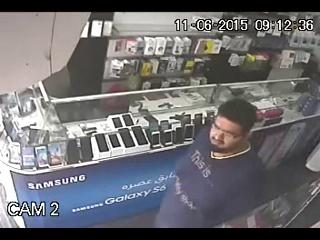Normal: (153, 97, 270, 228)
